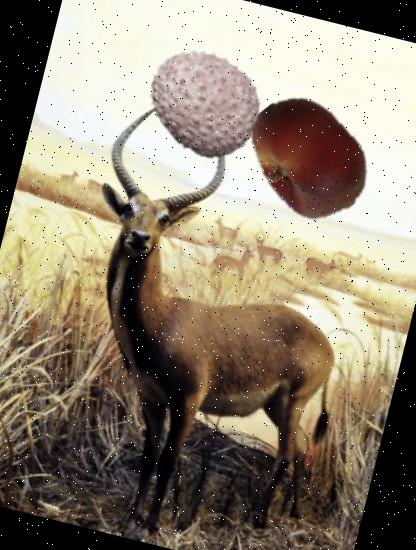Lychee: (134, 29, 280, 174)
Nectarine: (230, 78, 388, 237)
